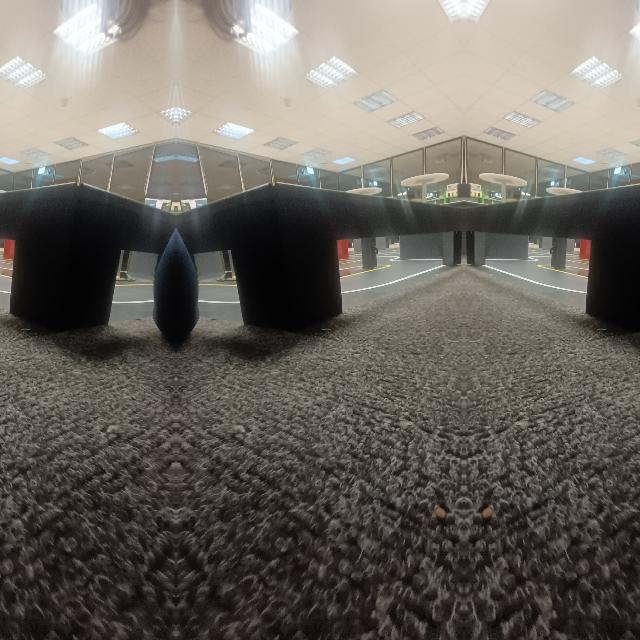obstacle: (182, 182, 463, 328), (463, 181, 640, 328), (0, 181, 167, 328)
